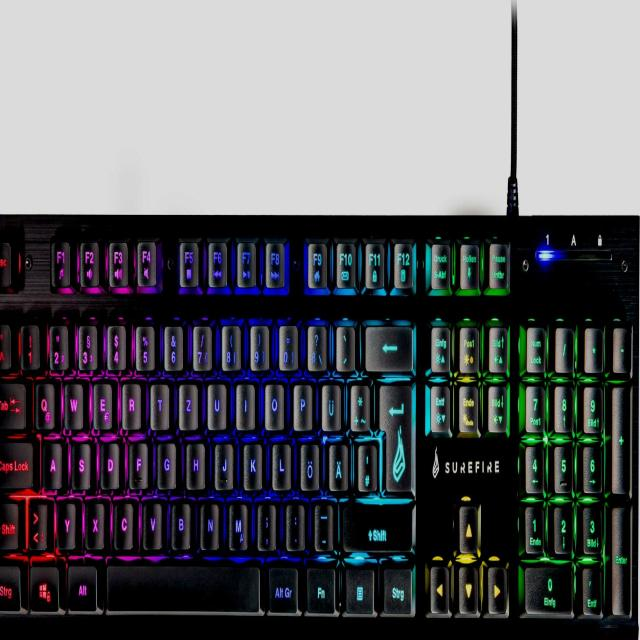0: (276, 318, 297, 368)
1: (18, 319, 39, 367)
2: (46, 319, 68, 368)
3: (75, 318, 97, 367)
4: (105, 319, 125, 368)
5: (133, 319, 154, 368)
6: (161, 319, 183, 368)
7: (190, 318, 211, 369)
8: (218, 319, 240, 370)
9: (248, 319, 269, 369)
a: (41, 434, 61, 486)
accent: (333, 321, 354, 368)
ae: (326, 437, 347, 489)
alt-left: (65, 558, 96, 609)
altgr-right: (266, 560, 297, 611)
b: (168, 494, 190, 547)
c: (111, 493, 133, 547)
caret: (0, 317, 10, 367)
comma: (254, 495, 275, 549)
d: (98, 434, 118, 487)
del: (361, 321, 413, 370)
e: (91, 375, 112, 428)
enter: (375, 376, 412, 491)
f: (127, 434, 148, 487)
g: (154, 435, 175, 486)
h: (183, 436, 204, 486)
hash: (354, 436, 376, 490)
i: (233, 376, 254, 427)
j: (212, 436, 232, 488)
k: (240, 436, 262, 488)
keyboard: (0, 211, 639, 640)
l: (269, 437, 290, 488)
less: (25, 492, 47, 547)
m: (225, 495, 247, 549)
minus: (311, 495, 333, 549)
n: (197, 495, 218, 547)
o: (262, 376, 283, 428)
oe: (298, 438, 318, 489)
p: (290, 377, 312, 429)
plus: (348, 376, 368, 428)
point: (283, 496, 304, 549)
q: (32, 374, 54, 427)
r: (119, 375, 141, 427)
s: (69, 435, 90, 487)
shift-left: (0, 496, 18, 547)
shift-lock: (0, 434, 33, 486)
shift-right: (339, 498, 411, 552)
space: (103, 556, 259, 609)
ss: (304, 320, 326, 369)
strg-left: (0, 559, 20, 609)
strg-right: (380, 562, 412, 612)
t: (148, 375, 168, 427)
tab: (0, 374, 25, 428)
u: (204, 376, 226, 428)
ue: (319, 376, 341, 429)
v: (140, 493, 162, 547)
w: (62, 374, 82, 428)
x: (83, 494, 104, 547)
y: (55, 493, 75, 546)
z: (176, 376, 197, 427)
